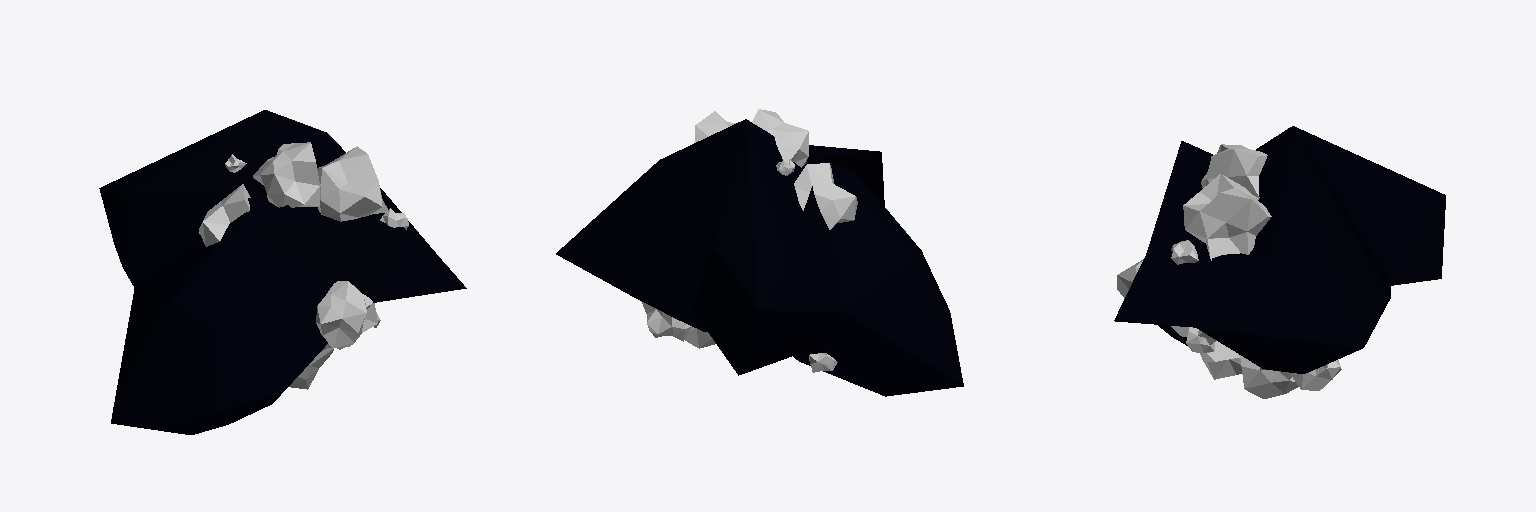
Rendered from Metal4.obj.
3 renders of one model, left to right at view 1: azimuth 30°, elevation 25°; view 2: azimuth 150°, elevation 25°; view 3: azimuth 270°, elevation 25°, orthographic.
Parts seen in each view (by area): view 1: Icosphere.008_Icosphere.010, Icosphere.009_Icosphere.011; view 2: Icosphere.008_Icosphere.010, Icosphere.009_Icosphere.011; view 3: Icosphere.008_Icosphere.010, Icosphere.009_Icosphere.011.
Boxes of the visible parts, <box> form: Icosphere.008_Icosphere.010: <box>99,110,466,434</box>; Icosphere.009_Icosphere.011: <box>199,142,408,389</box>; Icosphere.008_Icosphere.010: <box>556,119,963,396</box>; Icosphere.009_Icosphere.011: <box>641,109,857,372</box>; Icosphere.008_Icosphere.010: <box>1114,126,1445,373</box>; Icosphere.009_Icosphere.011: <box>1117,144,1341,398</box>.
Size of the model in its own units: 1.7 by 1.31 by 1.43.